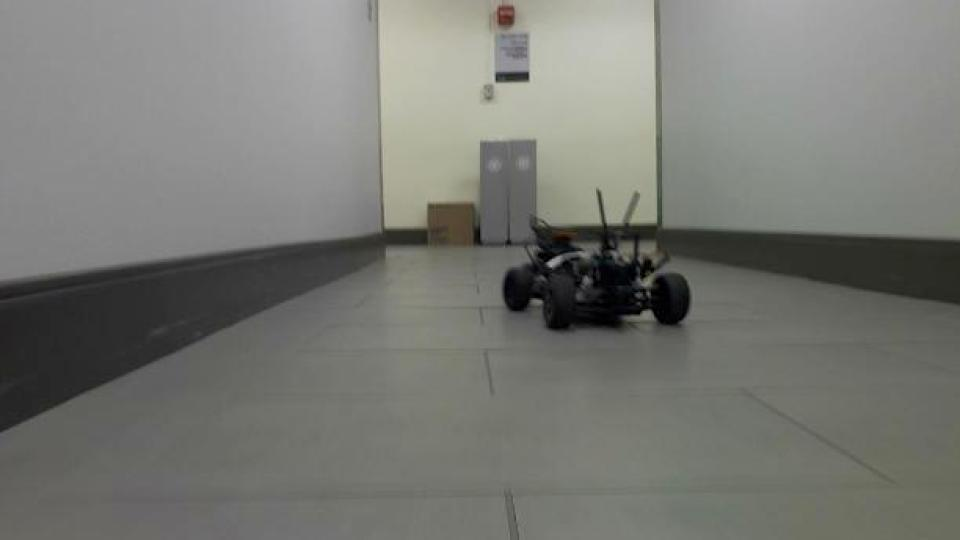car: (499, 185, 693, 333)
